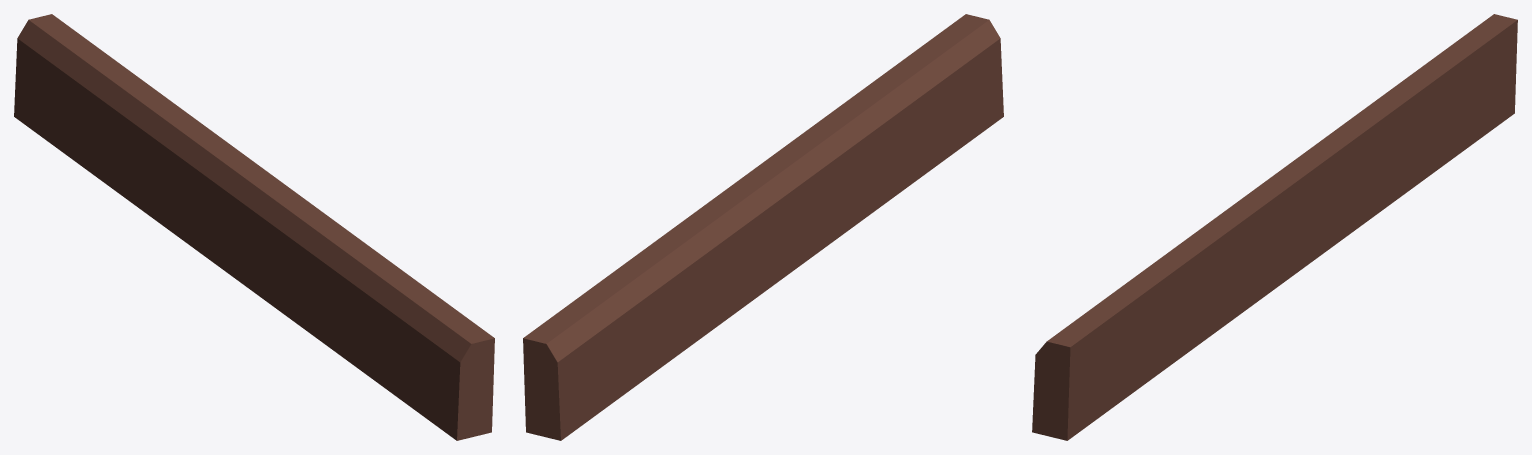
File: Randleiste schief.fbx
The picture shows the model from 3 angles, left to right: view 1: azimuth 30°, elevation 25°; view 2: azimuth 150°, elevation 25°; view 3: azimuth 330°, elevation 25°; orthographic projection.
Parts seen in each view (by area): view 1: Randleiste schief; view 2: Randleiste schief; view 3: Randleiste schief.
Boxes of the visible parts, x1,y1,x2,y2 form: Randleiste schief: [14, 14, 494, 440]; Randleiste schief: [523, 14, 1003, 440]; Randleiste schief: [1032, 14, 1517, 440].
Bounding box in the file's own units: 4.96 × 11.64 × 100.
